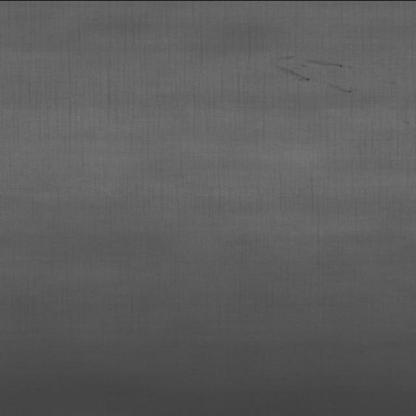water_spot: (266, 45, 360, 100)
